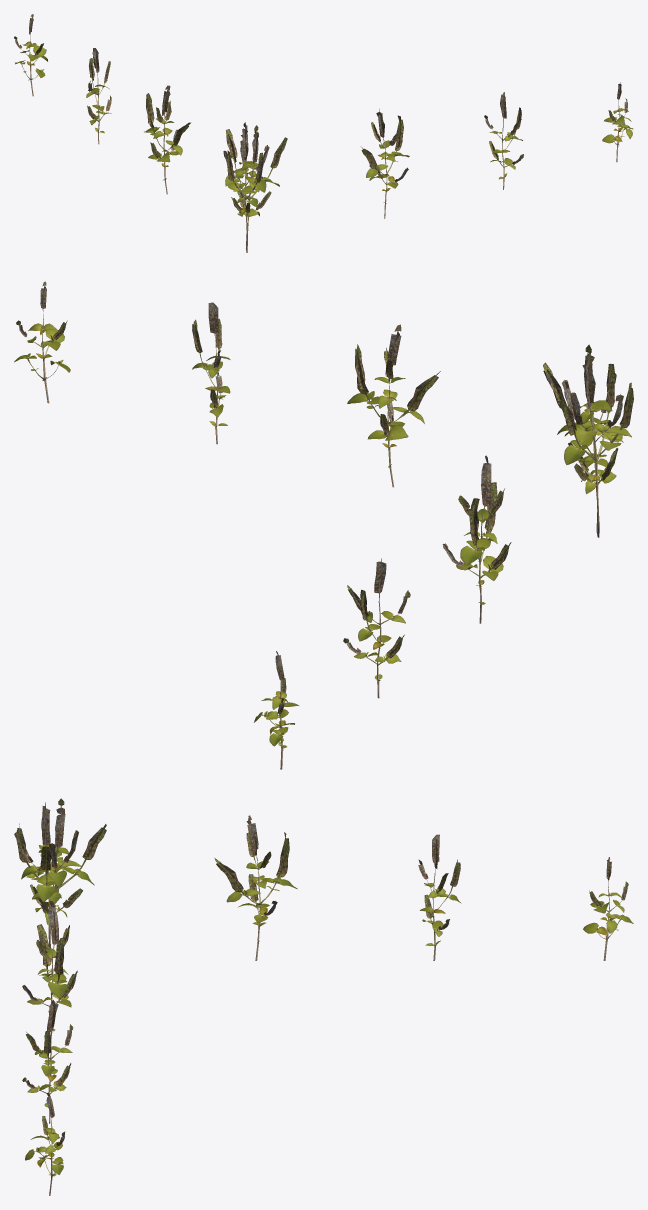
The model's file is temperate-shrub-cluster-lod1.glb.
3 views of the same model, one above another, from view 1: azimuth 30°, elevation 25°; view 2: azimuth 150°, elevation 25°; view 3: azimuth 270°, elevation 25° (orthographic). The views are drawn at different scales.
Visible parts, largest first — view 1: shrub_03_a, shrub_03_a-crossed; view 2: shrub_03_a-crossed, shrub_03_a; view 3: shrub_03_a-crossed, shrub_03_a.
Part boxes in pixels (<box>): shrub_03_a: <box>226,82,633,252</box>; shrub_03_a-crossed: <box>14,14,269,252</box>; shrub_03_a-crossed: <box>254,353,631,769</box>; shrub_03_a: <box>14,281,633,536</box>; shrub_03_a-crossed: <box>16,798,633,960</box>; shrub_03_a: <box>14,802,81,1195</box>.
Bounding box in the file's own units: 2.19 × 0.6445 × 2.19.
Materials: 1 (1 with a texture image).
